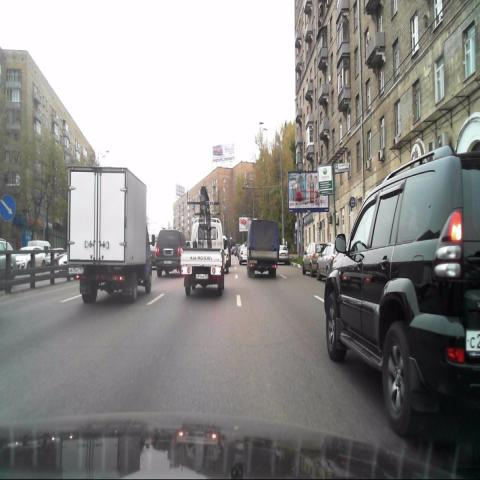4_2_1: (0, 191, 17, 221)
